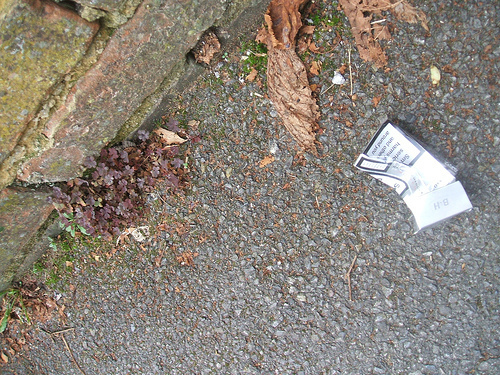litter: (353, 118, 473, 234)
